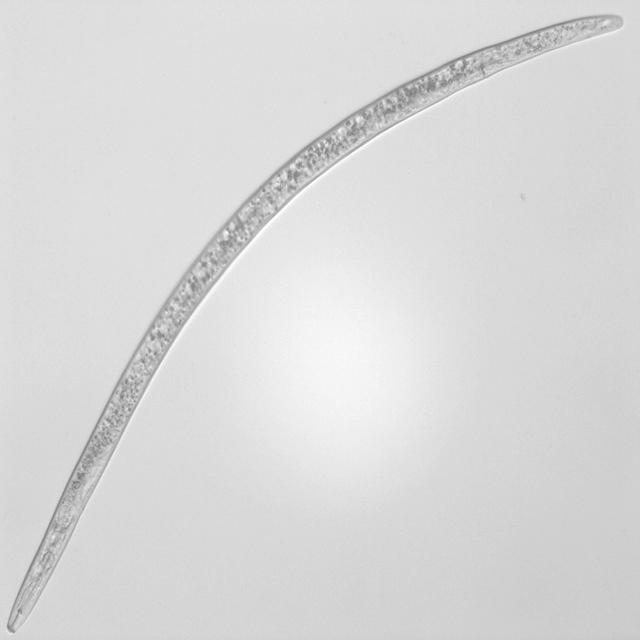Pratylenchus: (3, 11, 630, 633)
